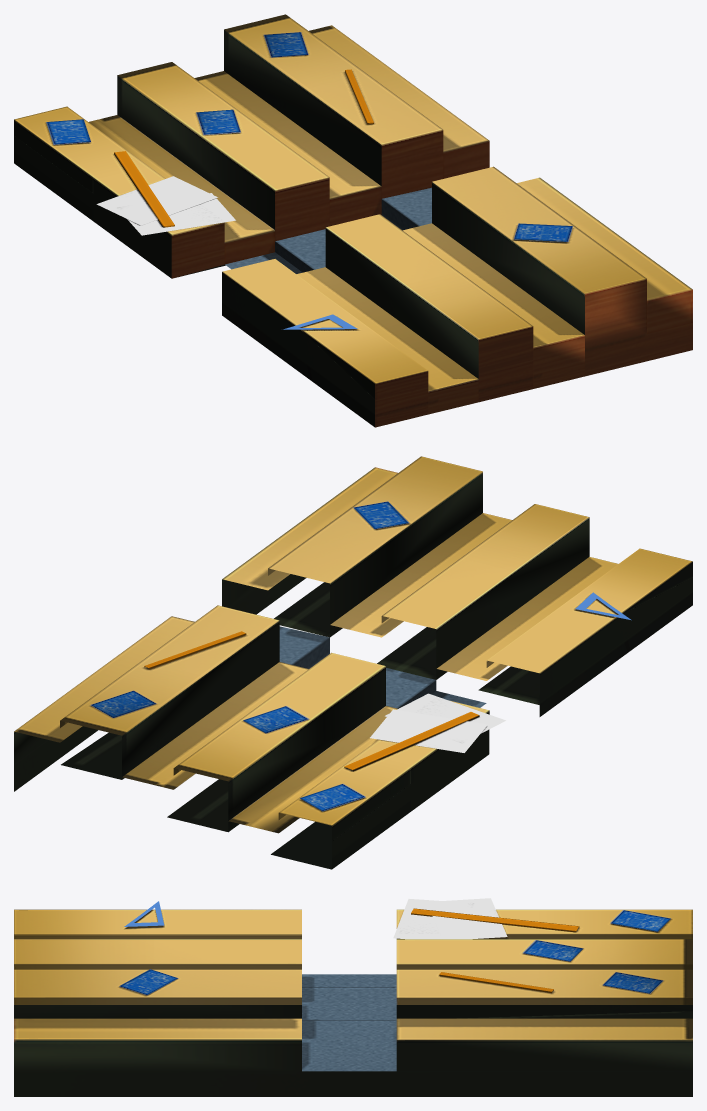
The model's file is Tx_Props_counter_ProfessionalDept.fbx.
3 renders of one model, top to bottom at view 1: azimuth 30°, elevation 25°; view 2: azimuth 150°, elevation 25°; view 3: azimuth 270°, elevation 25°, orthographic. The views are drawn at different scales.
Visible parts, largest first — view 1: Tx_Props_counter_ProfessionalDept; view 2: Tx_Props_counter_ProfessionalDept; view 3: Tx_Props_counter_ProfessionalDept.
Boxes of the visible parts, box(x1,y1,x2,y2) form: Tx_Props_counter_ProfessionalDept: box(14, 14, 692, 427); Tx_Props_counter_ProfessionalDept: box(14, 456, 692, 869); Tx_Props_counter_ProfessionalDept: box(14, 898, 692, 1096).
Bounding box in the file's own units: 29.23 × 6.9 × 53.28.
